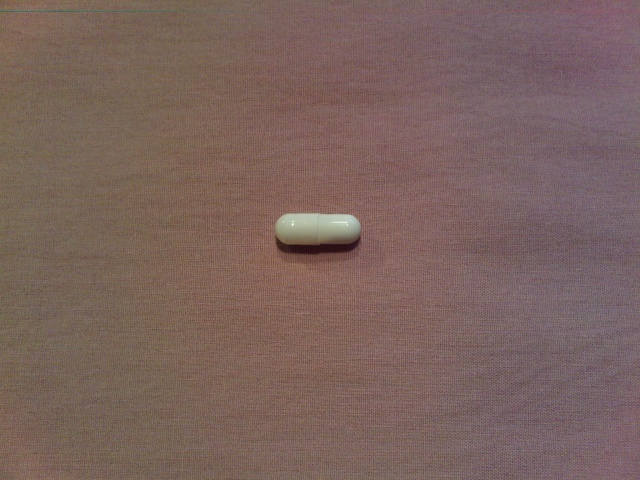capsule: (272, 211, 363, 251)
